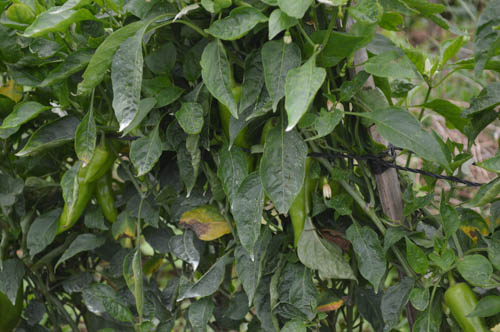ChiliPepper: (281, 150, 319, 251), (57, 163, 91, 235), (444, 279, 490, 332), (221, 84, 251, 160), (256, 116, 284, 191), (90, 164, 122, 224), (83, 140, 124, 186)
